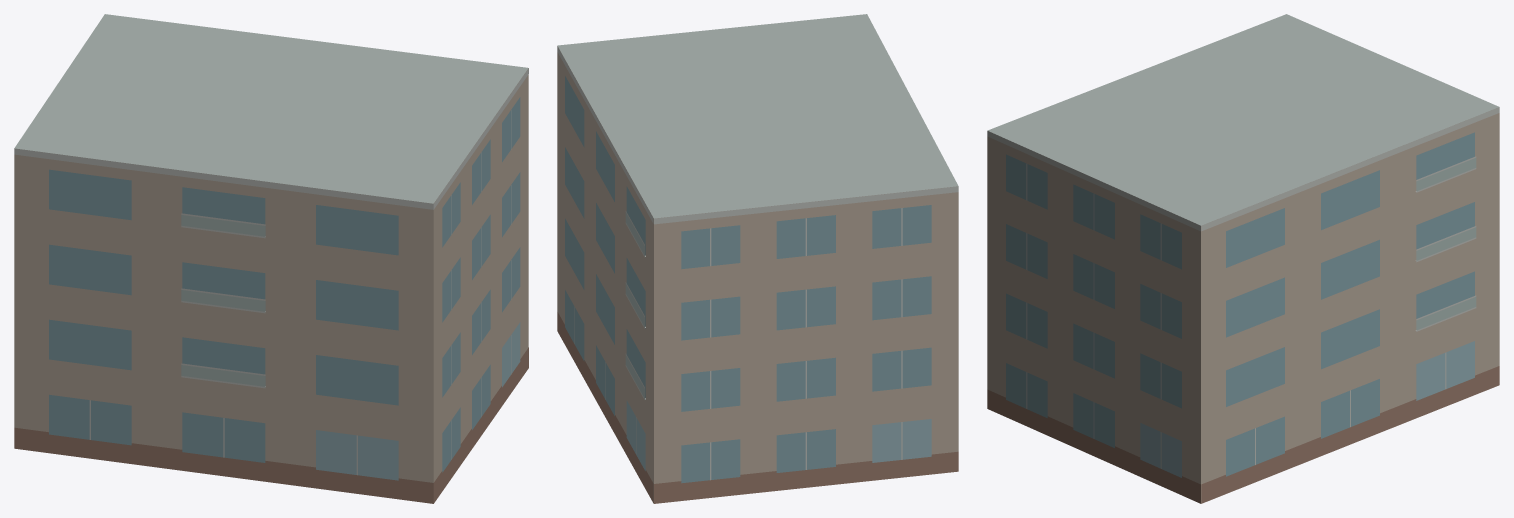
File: survey-upis-32815284.glb
3 renders of one model, left to right at view 1: azimuth 30°, elevation 25°; view 2: azimuth 150°, elevation 25°; view 3: azimuth 270°, elevation 25°, orthographic. The views are drawn at different scales.
Parts seen in each view (by area): view 1: survey-upis-32815284.tmp; view 2: survey-upis-32815284.tmp; view 3: survey-upis-32815284.tmp.
Part boxes in pixels (x1,y1,x2,y2): survey-upis-32815284.tmp: [14, 14, 528, 503]; survey-upis-32815284.tmp: [557, 14, 958, 503]; survey-upis-32815284.tmp: [987, 14, 1499, 503].
Bounding box in the file's own units: 19.25 × 11.78 × 19.69.
